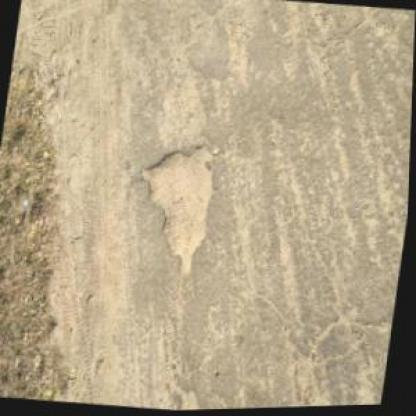pothole: (124, 134, 224, 282)
